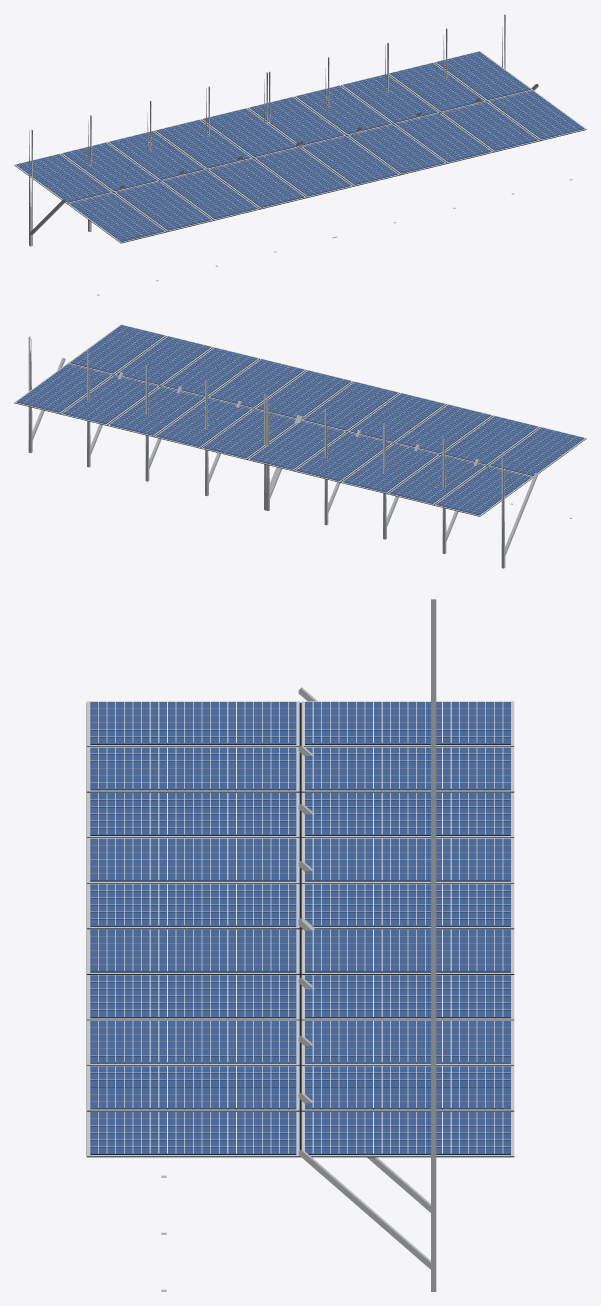
File: solar-fixed.glb
The picture shows the model from 3 angles, top to bottom: view 1: azimuth 30°, elevation 25°; view 2: azimuth 150°, elevation 25°; view 3: azimuth 270°, elevation 25°; orthographic projection. The views are drawn at different scales.
Visible parts, largest first — view 1: SolarPanelSurface, SolarPanelBacking, SolarPanelGrid, SolarPanelFrame, SolarPanelBase; view 2: SolarPanelSurface, SolarPanelBacking, SolarPanelGrid, SolarPanelFrame, SolarPanelBase; view 3: SolarPanelSurface, SolarPanelGrid, SolarPanelBacking, SolarPanelFrame, SolarPanelBase.
Part boxes in pixels (x1,y1,x2,y2): SolarPanelSurface: (16, 51, 584, 241); SolarPanelBacking: (14, 53, 586, 243); SolarPanelGrid: (19, 52, 582, 239); SolarPanelFrame: (14, 51, 586, 242); SolarPanelBase: (29, 14, 572, 295); SolarPanelSurface: (16, 325, 583, 514); SolarPanelBacking: (14, 327, 586, 516); SolarPanelGrid: (19, 326, 582, 513); SolarPanelFrame: (14, 324, 586, 516); SolarPanelBase: (28, 336, 572, 568); SolarPanelSurface: (90, 702, 510, 1153); SolarPanelGrid: (90, 701, 510, 1153); SolarPanelBacking: (86, 702, 514, 1157); SolarPanelFrame: (87, 701, 514, 1156); SolarPanelBase: (161, 599, 436, 1291).
Size of the model in its own units: 11.74 by 2.73 by 4.58.
